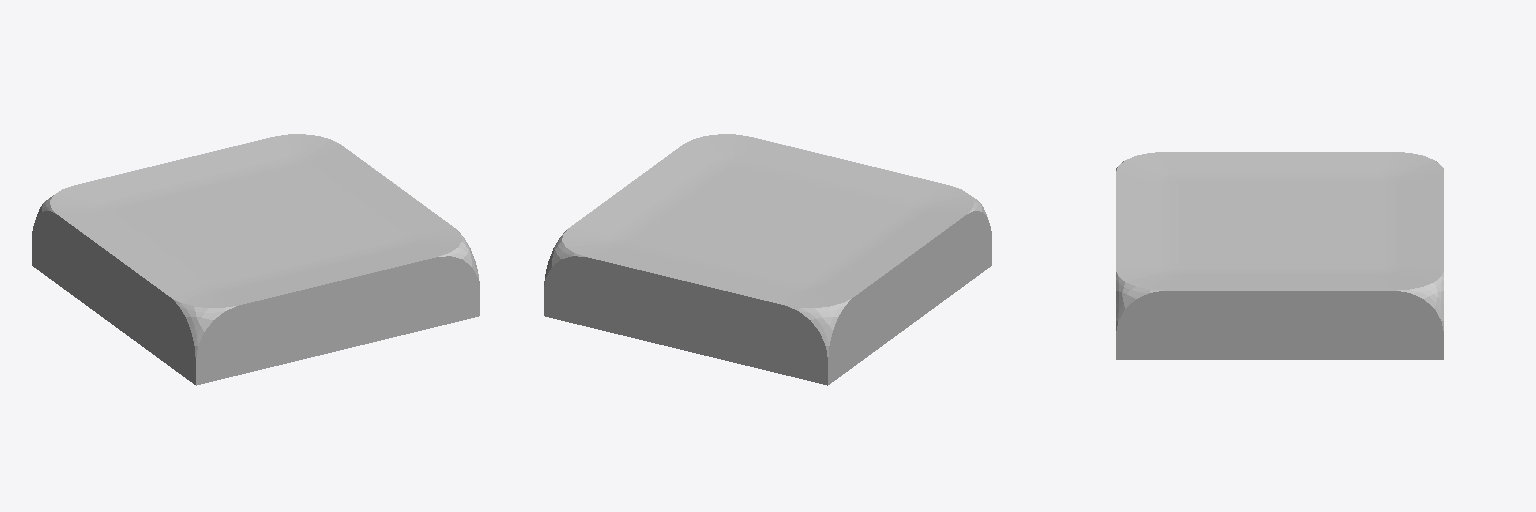
The model's file is bouton_simple_haut.obj.
3 renders of one model, left to right at view 1: azimuth 30°, elevation 25°; view 2: azimuth 150°, elevation 25°; view 3: azimuth 270°, elevation 25°, orthographic.
Visible parts, largest first — view 1: Cube.085_Cube.180; view 2: Cube.085_Cube.180; view 3: Cube.085_Cube.180.
Part boxes in pixels (x1,y1,x2,y2): Cube.085_Cube.180: (32, 134, 479, 385); Cube.085_Cube.180: (544, 134, 991, 385); Cube.085_Cube.180: (1116, 152, 1443, 359).
Size of the model in its own units: 1 by 0.2338 by 1.